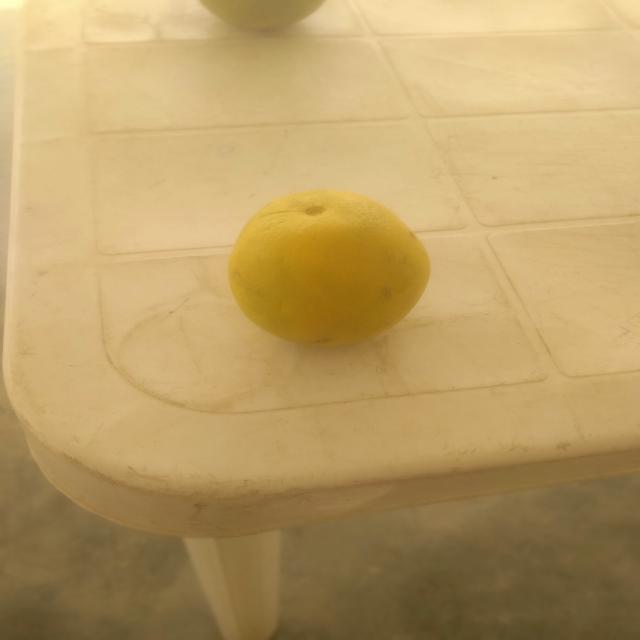Ripe orange: (209, 166, 445, 372)
